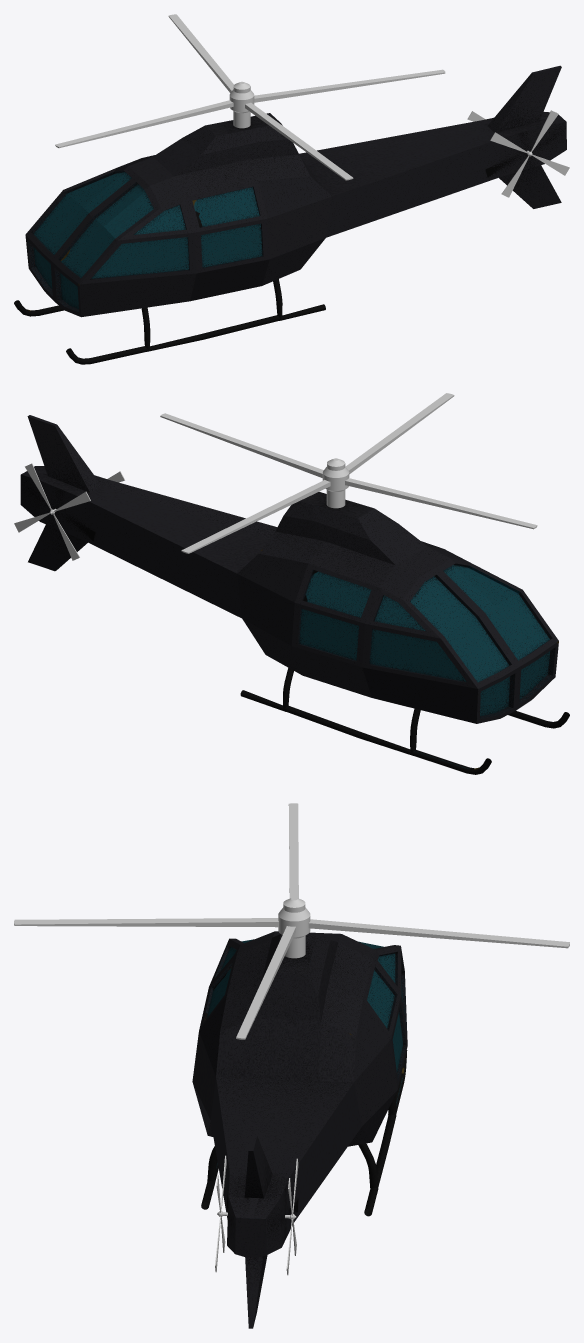
The model's file is anim_000250.obj.
The picture shows the model from 3 angles, top to bottom: view 1: azimuth 30°, elevation 25°; view 2: azimuth 150°, elevation 25°; view 3: azimuth 270°, elevation 25°; orthographic projection. The views are drawn at different scales.
Visible parts, largest first — view 1: Helicopter.007_Cylinder.008, Helicopter.001_Cylinder.001, Helicopter.003_Cylinder.004; view 2: Helicopter.007_Cylinder.008, Helicopter.001_Cylinder.001, Helicopter.004_Cylinder.005; view 3: Helicopter.007_Cylinder.008, Helicopter.001_Cylinder.001.
Boxes of the visible parts, left/top/right/bottom form: Helicopter.007_Cylinder.008: left=14, top=65, right=566, bottom=364; Helicopter.001_Cylinder.001: left=55, top=14, right=445, bottom=180; Helicopter.003_Cylinder.004: left=490, top=110, right=569, bottom=197; Helicopter.007_Cylinder.008: left=20, top=415, right=569, bottom=774; Helicopter.001_Cylinder.001: left=160, top=393, right=537, bottom=553; Helicopter.004_Cylinder.005: left=14, top=463, right=90, bottom=560; Helicopter.007_Cylinder.008: left=192, top=931, right=407, bottom=1328; Helicopter.001_Cylinder.001: left=14, top=803, right=569, bottom=1039.
Bounding box in the file's own units: 7.55 × 3.21 × 5.55.
